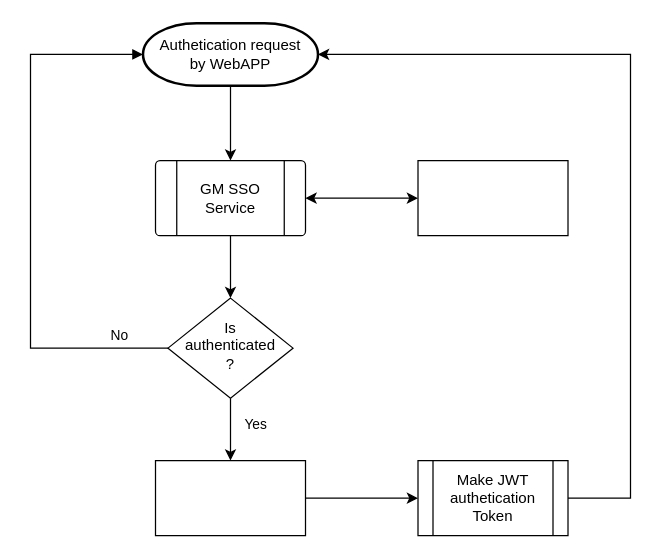
This 663x558 diagram has some shape labels left out. Each missing label, with the box of its shape:
Customer Active Directory: (417, 159, 568, 236)
Get user groups and capabilities: (154, 459, 306, 536)
